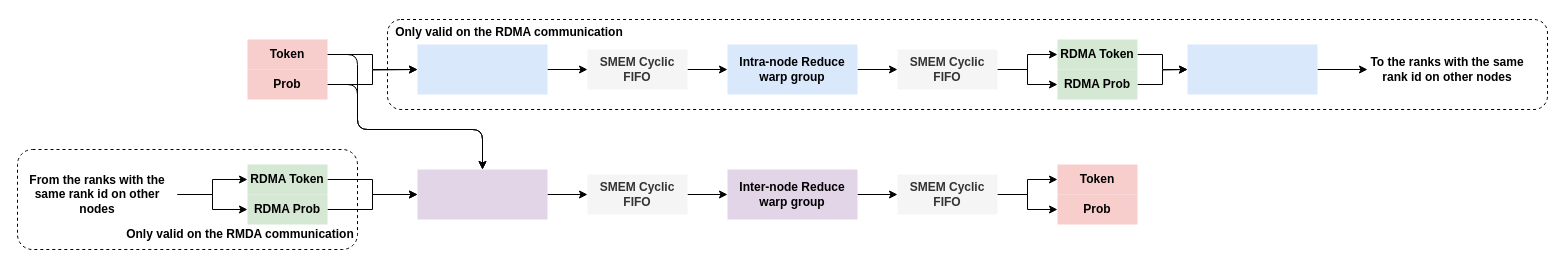
Image size: 1565x267. Some labels were removed from this diagram. The box of each missing label's shape, as (x1, y1, x2, y2) in pixels:
Global Memory => SM Inter-node warp group: (417, 169, 547, 219)
Global Memory => SM Intra-node warp group: (417, 44, 547, 94)
RDMA warp group: (1187, 44, 1317, 94)
